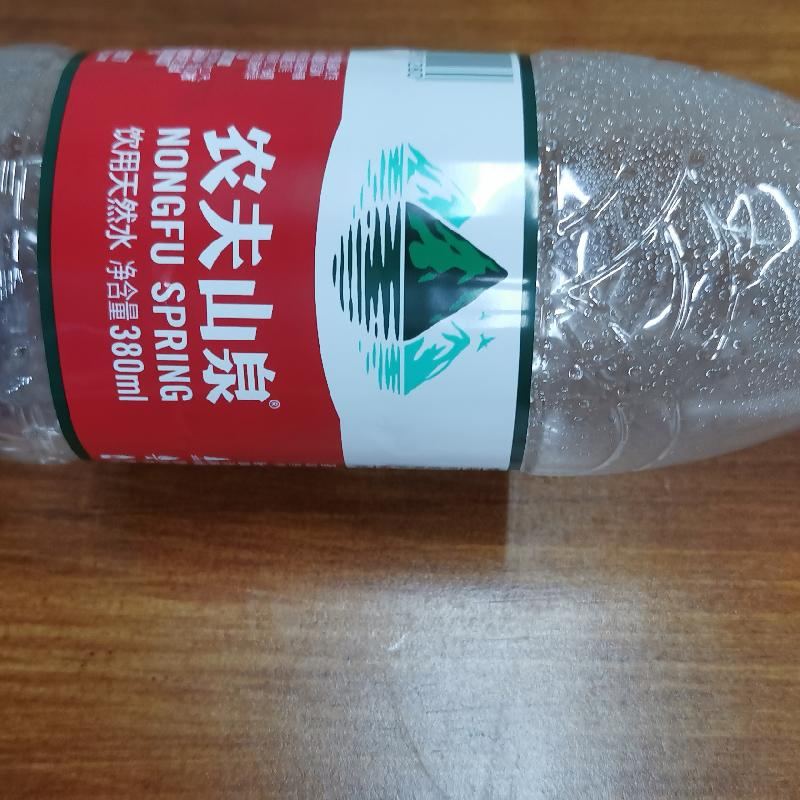bottles: (0, 35, 799, 476)
